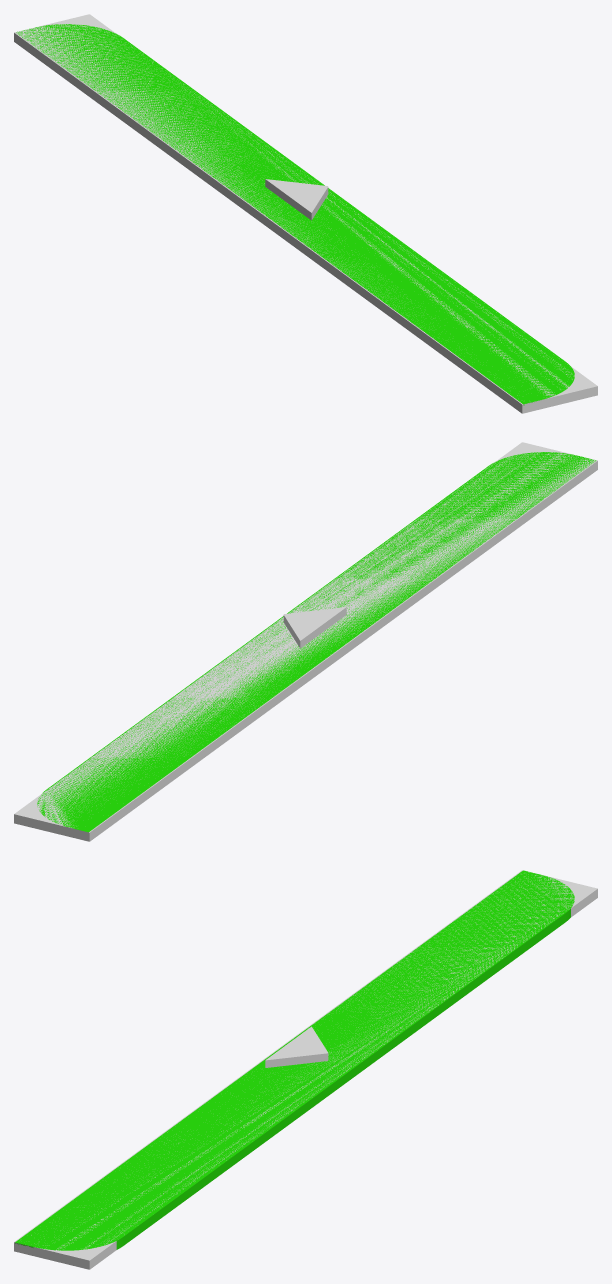
The model's file is up_arrow.fbx.
3 views of the same model, one above another, from view 1: azimuth 30°, elevation 25°; view 2: azimuth 150°, elevation 25°; view 3: azimuth 330°, elevation 25° (orthographic).
Parts seen in each view (by area): view 1: PannelR, Cube, ArrowR; view 2: Cube, PannelR, ArrowR; view 3: PannelR, Cube, ArrowR.
Boxes of the visible parts, box(x1,y1,x2,y2) form: PannelR: box(16, 24, 574, 405); Cube: box(14, 14, 597, 413); ArrowR: box(265, 179, 328, 220); Cube: box(14, 442, 597, 841); PannelR: box(37, 452, 596, 832); ArrowR: box(283, 607, 346, 648); PannelR: box(15, 870, 574, 1250); Cube: box(14, 870, 597, 1269); ArrowR: box(265, 1026, 328, 1067).
Size of the model in its own units: 87 by 29.18 by 1000.
